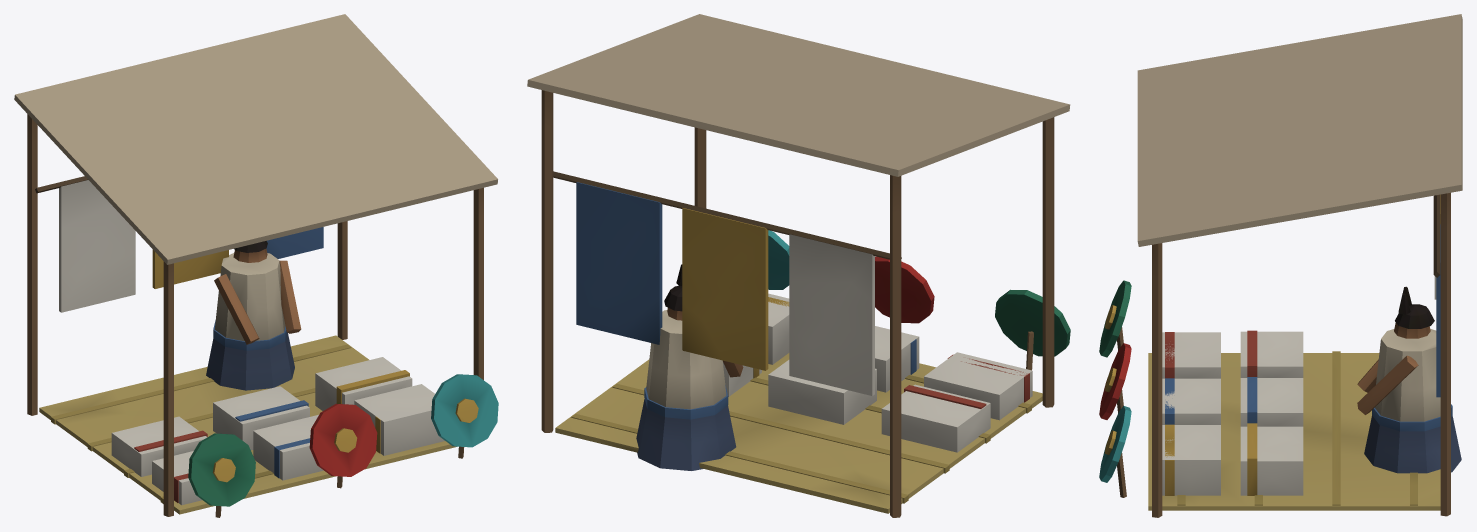
Rendered from stall-cloth.glb.
3 renders of one model, left to right at view 1: azimuth 30°, elevation 25°; view 2: azimuth 150°, elevation 25°; view 3: azimuth 270°, elevation 25°, orthographic. The views are drawn at different scales.
Visible parts, largest first — view 1: base; view 2: base; view 3: base.
Boxes of the visible parts, bbox=[...] form: base: bbox=[14, 14, 498, 517]; base: bbox=[527, 14, 1070, 517]; base: bbox=[1099, 14, 1462, 517].
Bounding box in the file's own units: 2.45 × 2.25 × 2.2.
